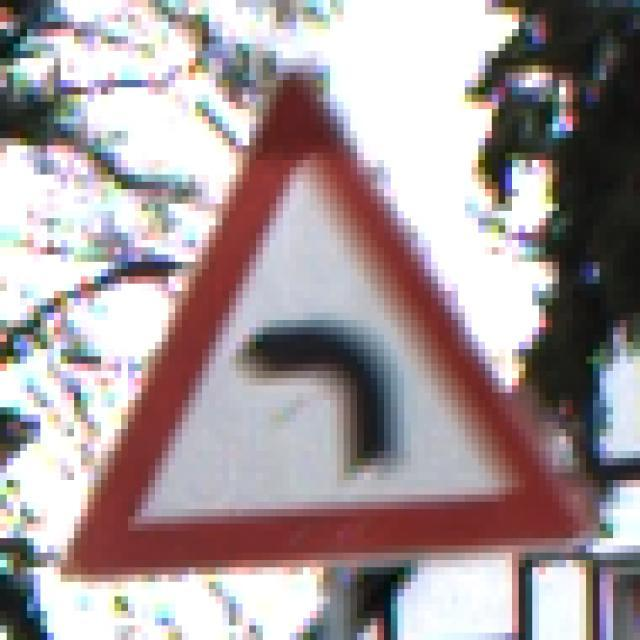left hand curve: (55, 63, 593, 565)
